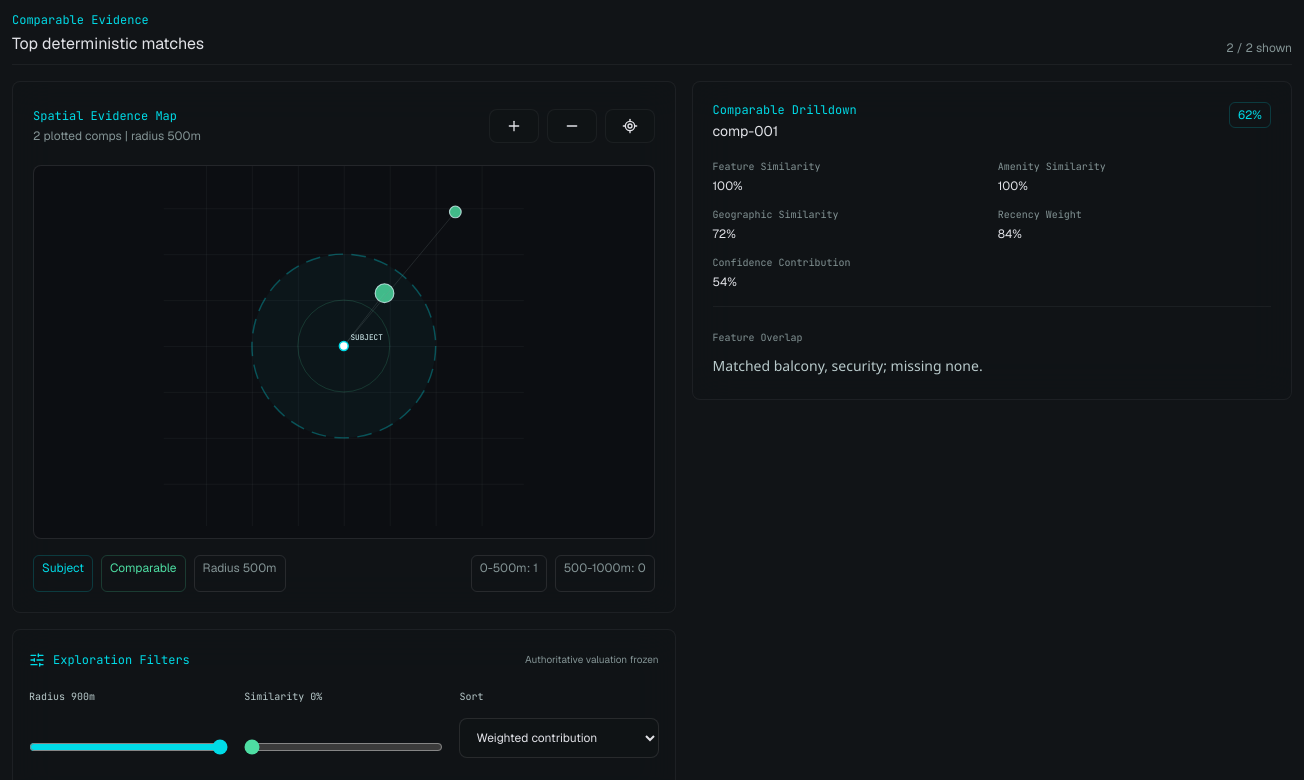
it: ComparablePanel › filters exploration comparables without mutating selected valuation evidence
This screenshot has width=1304, height=780.
Set the slider named "comparable similarity filter" to "0.8": (399, 747) [244,730,443,764]
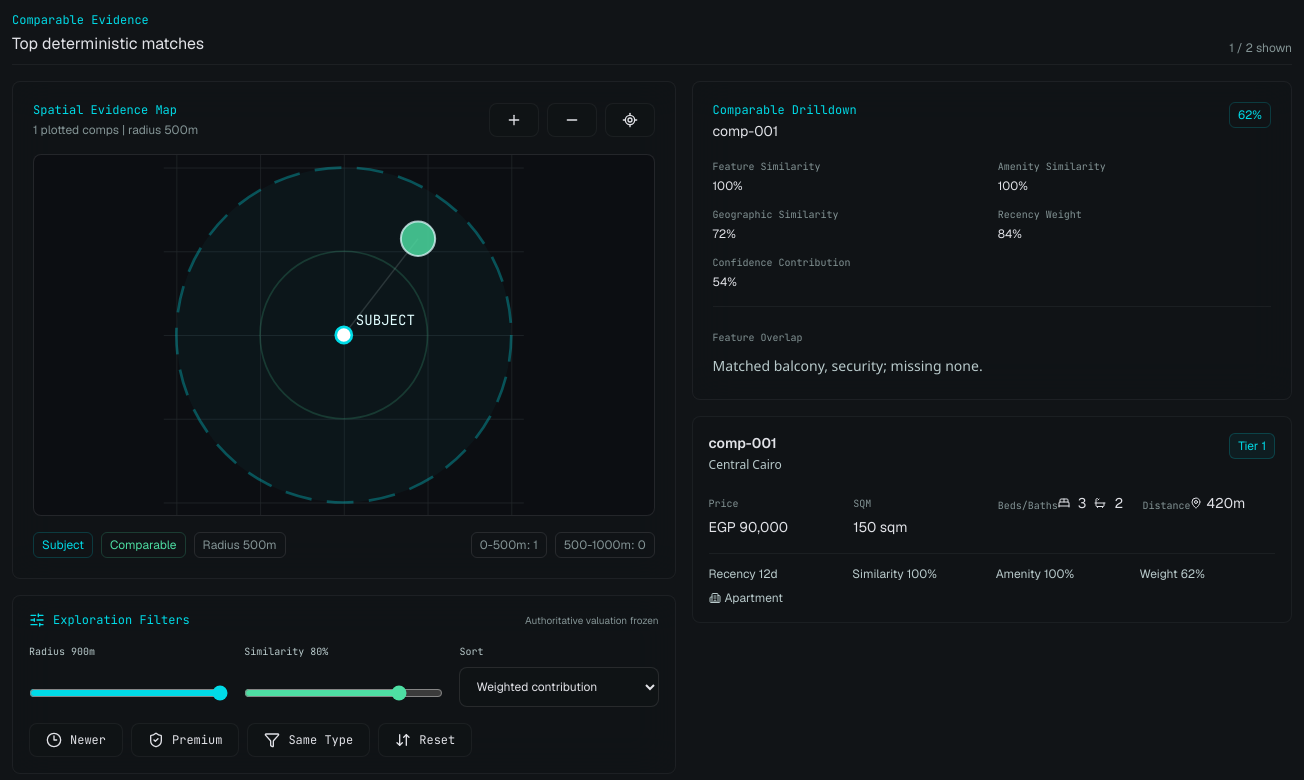
Expected: the text "Authoritative valuation frozen" is shown, [525,612,658,628]
Expected: the button with test id "comparable-card-comp-001" is shown, [692,416,1292,623]
